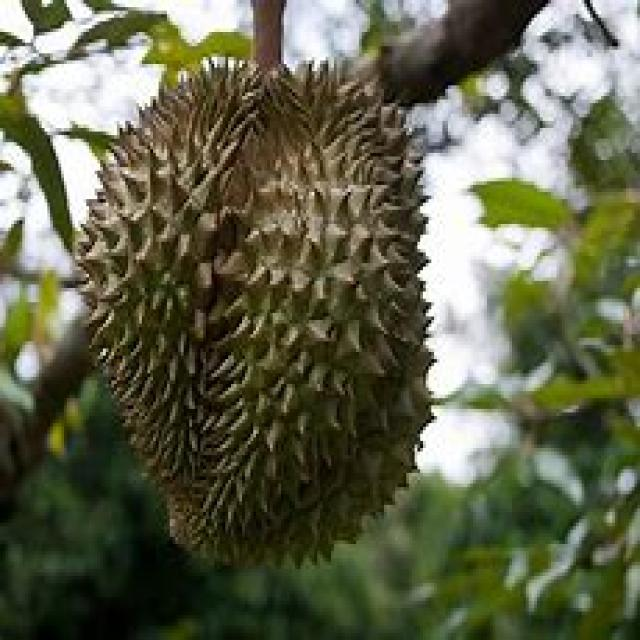mature: (79, 67, 430, 561)
